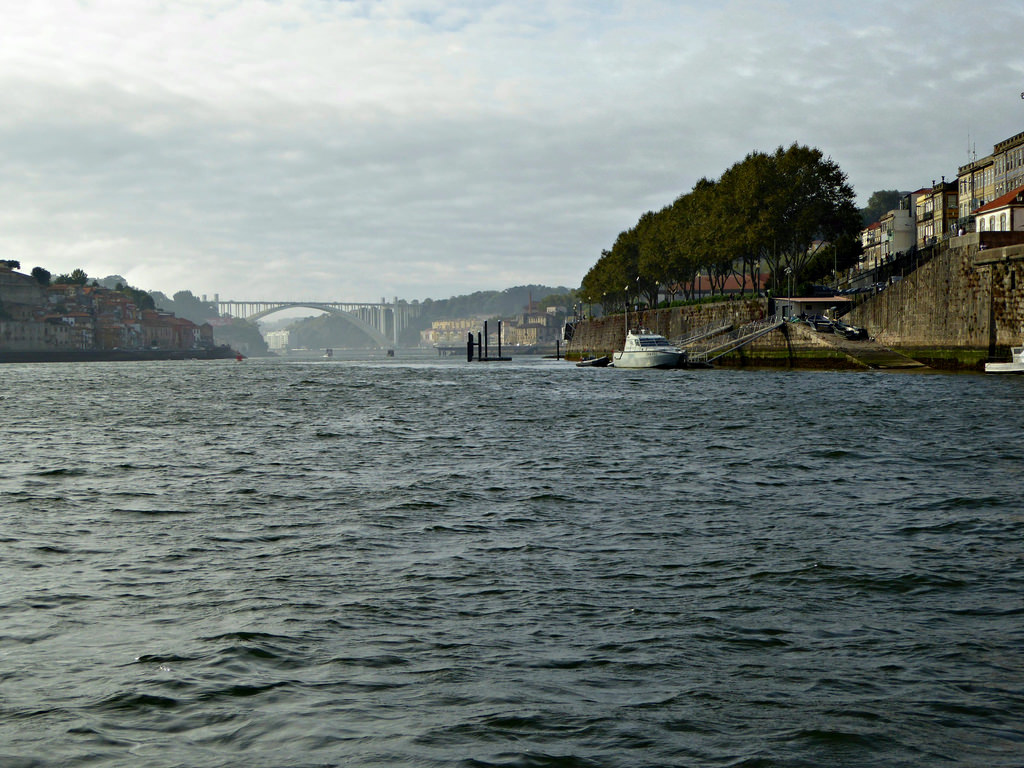arrabida: (197, 293, 422, 347)
